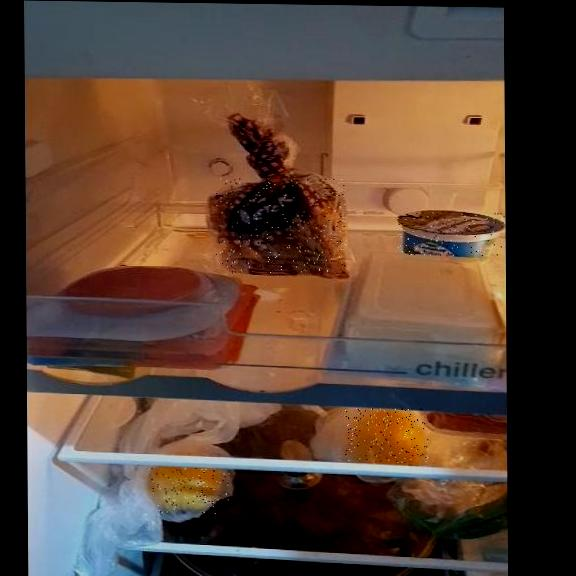bread: (216, 177, 346, 274)
cheese: (349, 255, 500, 340)
lemon: (345, 407, 432, 463), (151, 467, 230, 514)
yoghurt: (398, 211, 505, 259)
